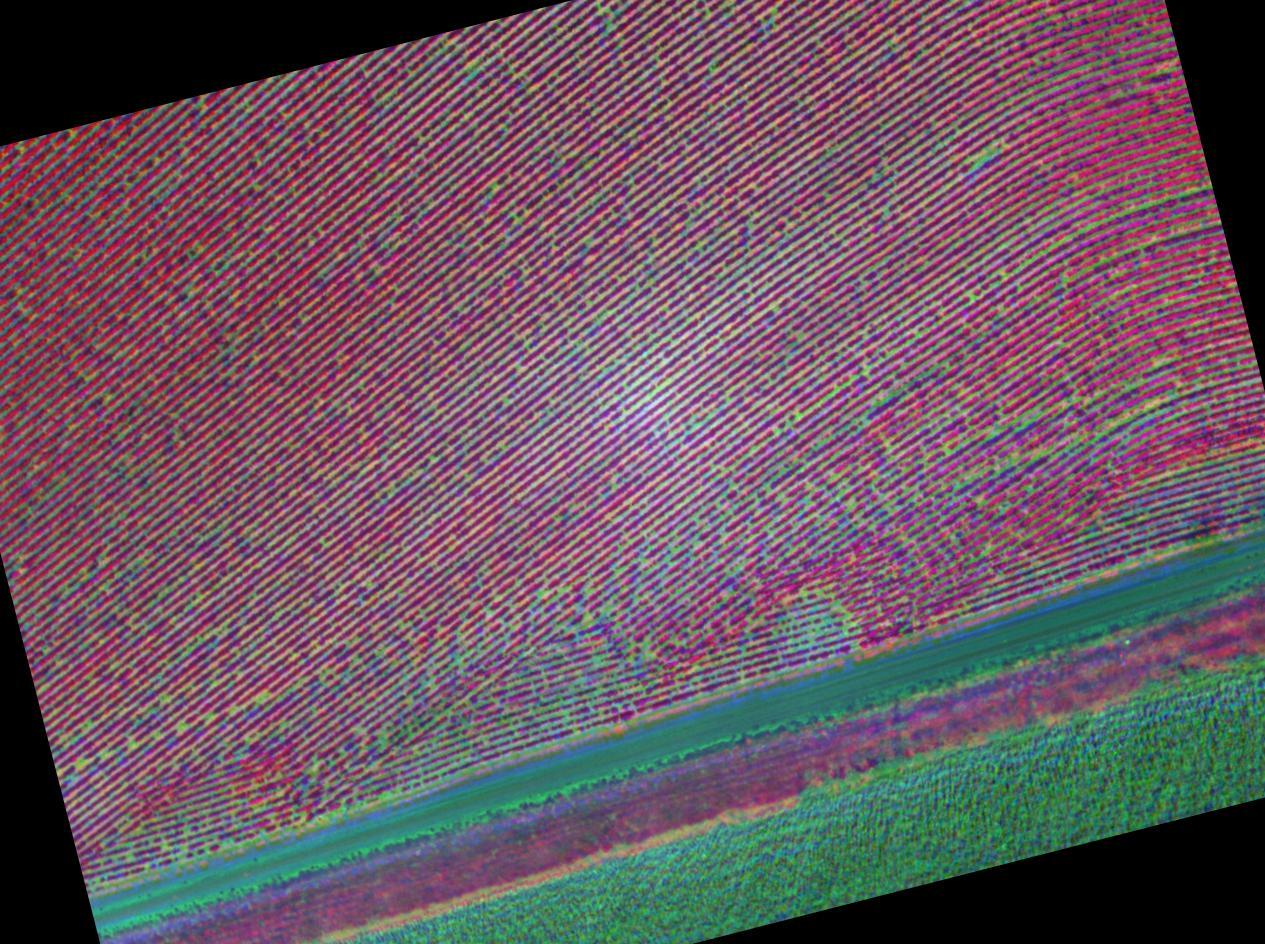dc: (456, 659, 462, 663), (770, 304, 774, 308), (561, 589, 565, 592), (326, 670, 330, 673), (208, 715, 211, 718), (179, 726, 182, 729)
